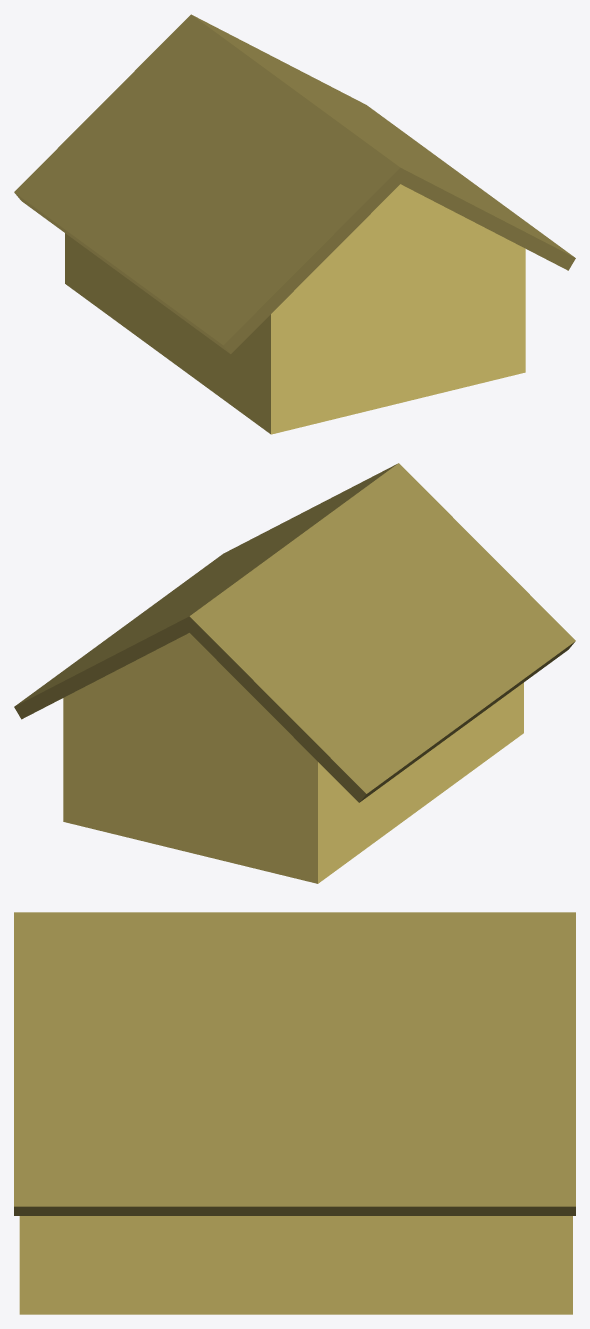
File: result.glb
3 renders of one model, top to bottom at view 1: azimuth 30°, elevation 25°; view 2: azimuth 150°, elevation 25°; view 3: azimuth 270°, elevation 25°, orthographic. The views are drawn at different scales.
Parts seen in each view (by area): view 1: 2c88f089-34d2-443f-bd52-b983ca2b18c9__undefined (×2), 0fd82589-ddc0-4cf0-99ca-652c5d7e1007__undefined; view 2: 2c88f089-34d2-443f-bd52-b983ca2b18c9__undefined (×2), 0fd82589-ddc0-4cf0-99ca-652c5d7e1007__undefined; view 3: 2c88f089-34d2-443f-bd52-b983ca2b18c9__undefined, 0fd82589-ddc0-4cf0-99ca-652c5d7e1007__undefined.
Part boxes in pixels (left/top/right/bottom): 2c88f089-34d2-443f-bd52-b983ca2b18c9__undefined (×2): left=14, top=14, right=575, bottom=353; 0fd82589-ddc0-4cf0-99ca-652c5d7e1007__undefined: left=65, top=184, right=525, bottom=434; 2c88f089-34d2-443f-bd52-b983ca2b18c9__undefined (×2): left=14, top=463, right=575, bottom=802; 0fd82589-ddc0-4cf0-99ca-652c5d7e1007__undefined: left=63, top=633, right=523, bottom=883; 2c88f089-34d2-443f-bd52-b983ca2b18c9__undefined: left=14, top=912, right=575, bottom=1215; 0fd82589-ddc0-4cf0-99ca-652c5d7e1007__undefined: left=19, top=1216, right=572, bottom=1314.
Bounding box in the file's own units: 691 × 445 × 711.
